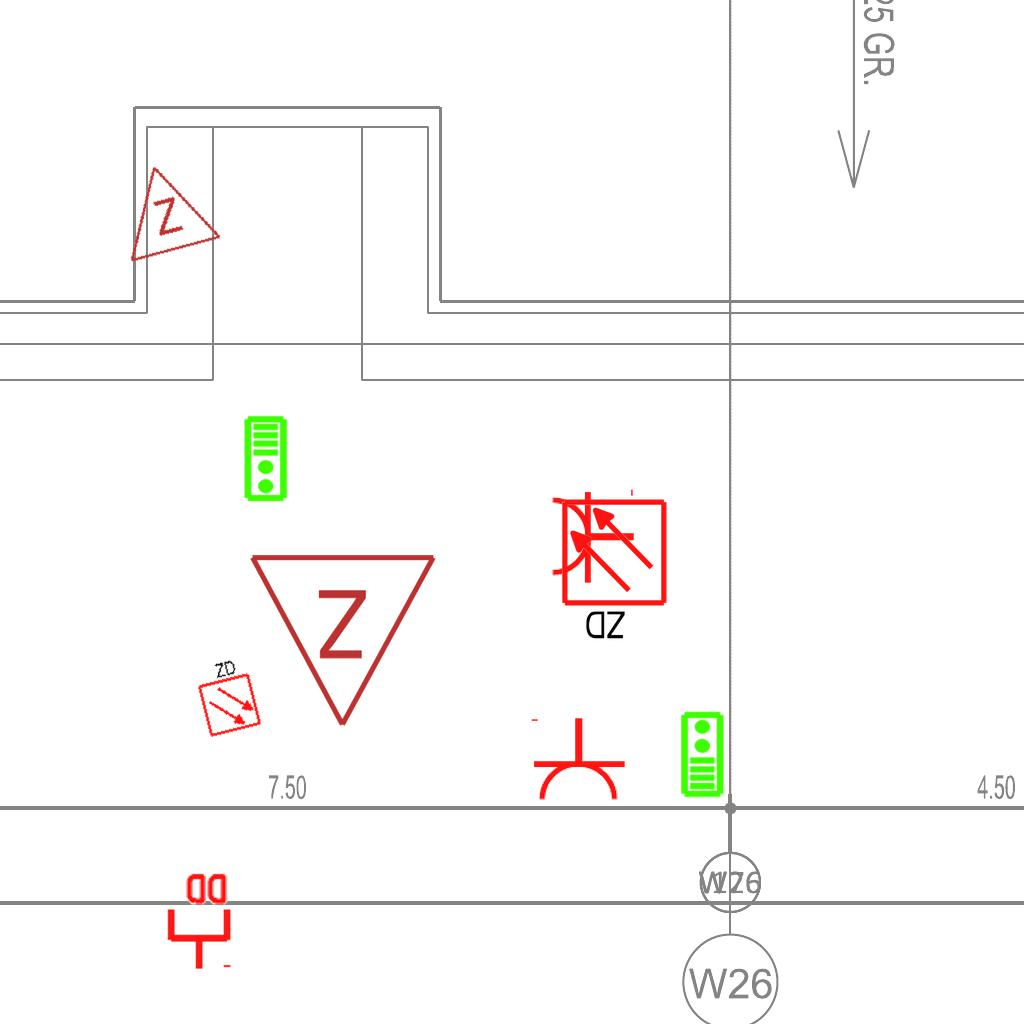Datenanschluss_zweifach: (163, 869, 232, 972)
Gegensprechanlage_mit_Video: (243, 415, 290, 503), (678, 710, 725, 798)
Schukosteckdose_einfach: (549, 485, 636, 585), (527, 716, 627, 803)
ZD_Melder_in_Zwischendecke_mit_Revisionsoeffnung_mind_40_x_40_cm: (559, 497, 673, 646), (189, 653, 264, 739)
Zimmersignalleuchte: (247, 540, 443, 740), (103, 148, 225, 270)
